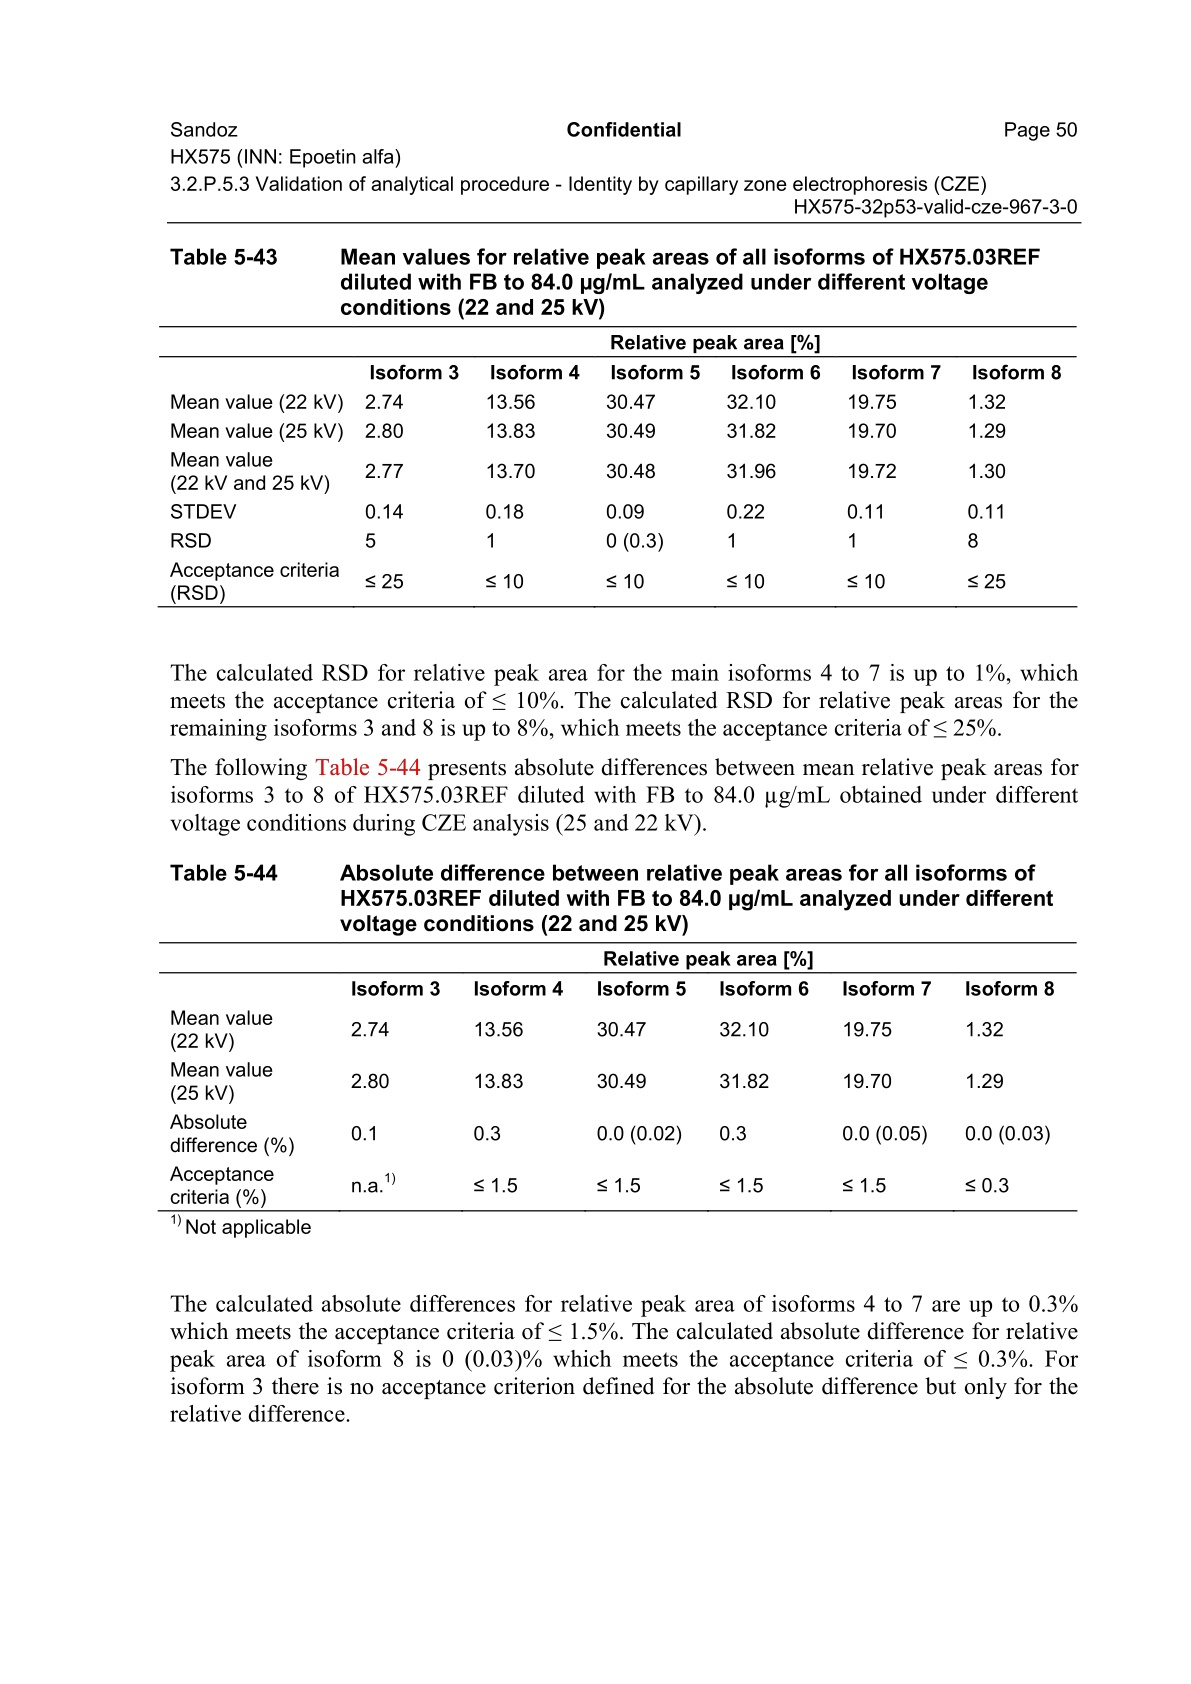partial_lined_merged_cells: (161, 323, 1078, 608), (156, 939, 1078, 1212)
